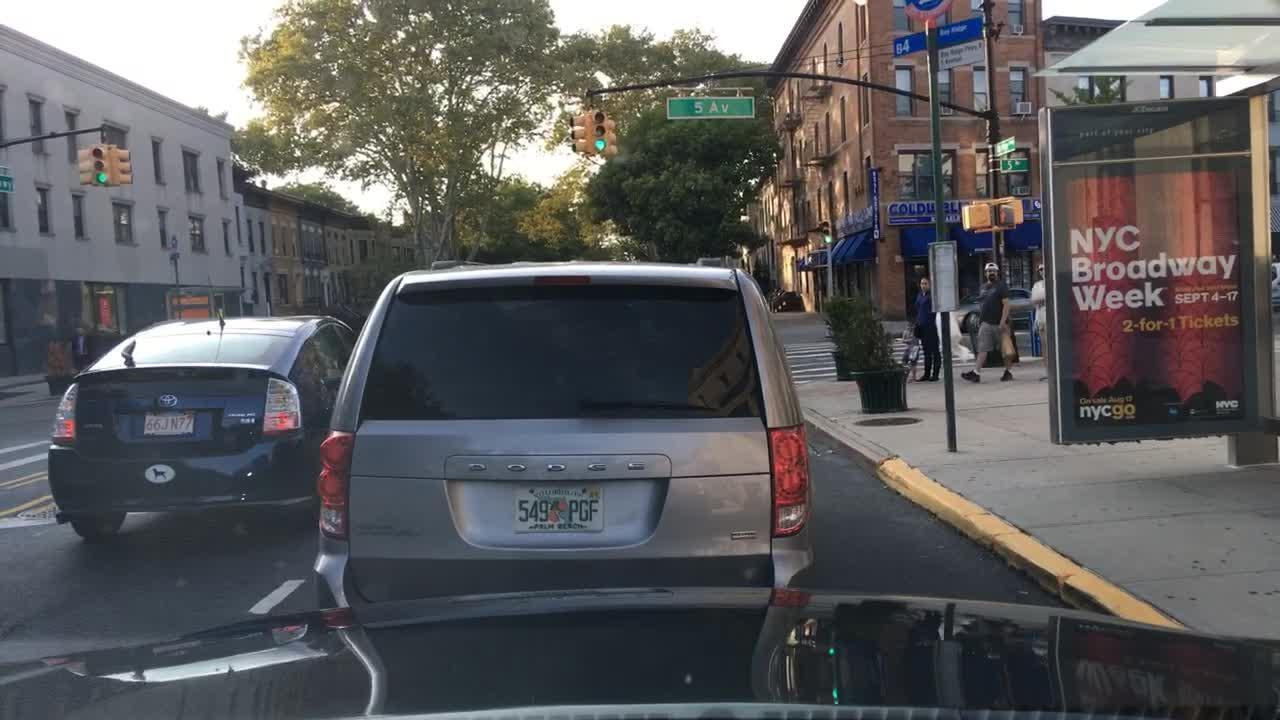Toyota: (157, 390, 179, 414)
dodge: (451, 453, 663, 481)
